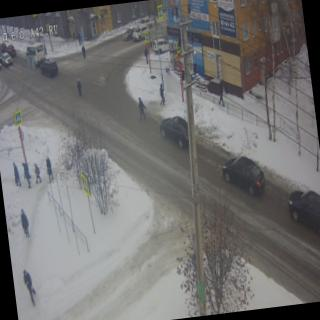small-vehicle: (225, 150, 266, 202), (290, 181, 320, 244), (154, 108, 194, 155), (37, 54, 59, 80), (25, 39, 43, 64), (136, 22, 152, 48), (151, 39, 169, 56), (120, 26, 136, 44), (0, 51, 12, 68), (6, 39, 17, 56), (0, 40, 9, 53), (0, 55, 3, 70)
